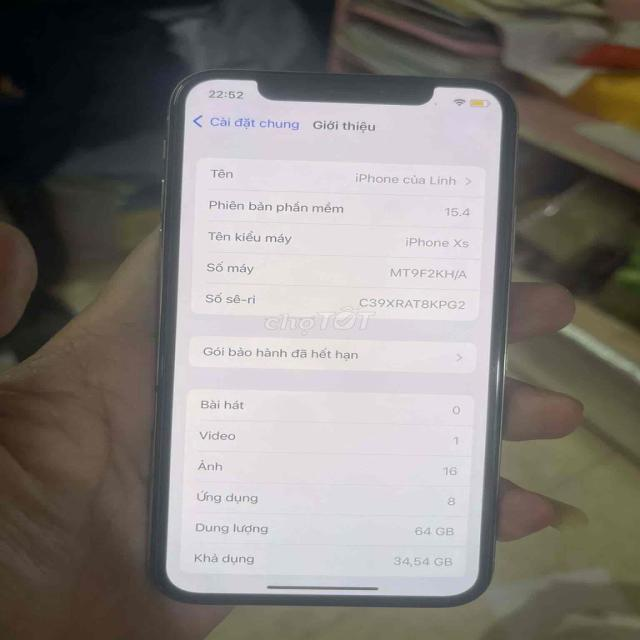gen_x_xs: (142, 61, 520, 612)
